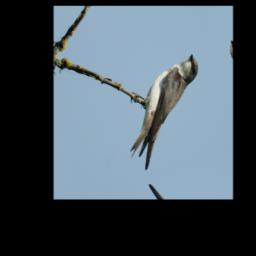Swallow: (114, 52, 215, 175)
